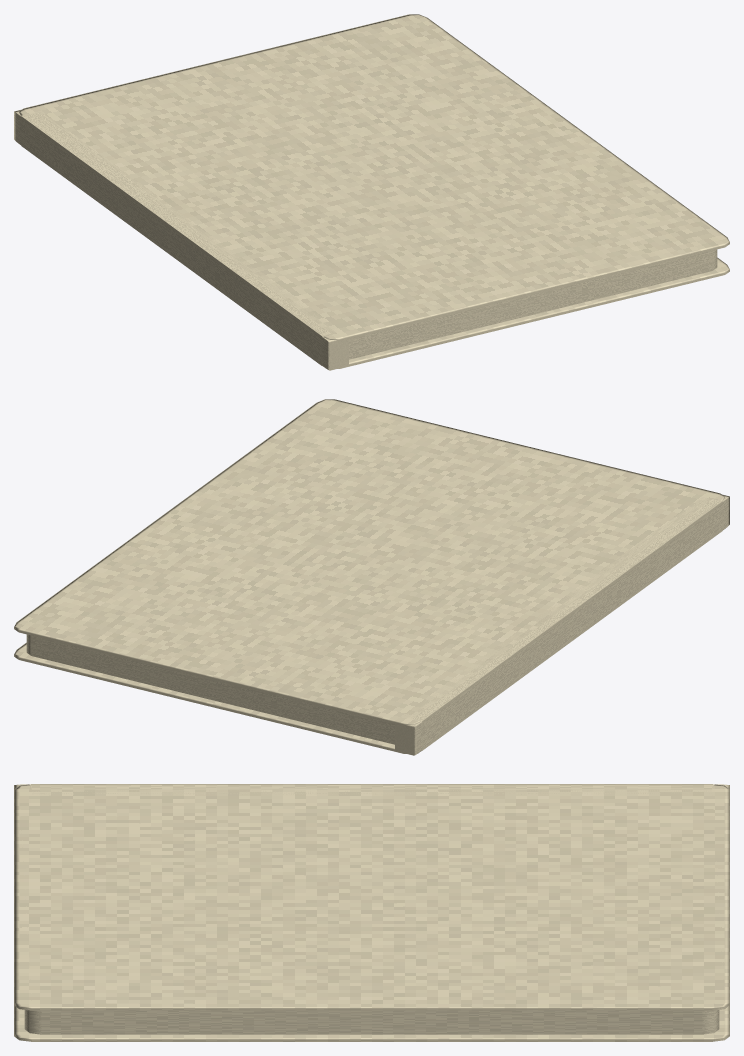
File: duty-log.glb
3 renders of one model, top to bottom at view 1: azimuth 30°, elevation 25°; view 2: azimuth 150°, elevation 25°; view 3: azimuth 270°, elevation 25°, orthographic. The views are drawn at different scales.
Visible parts, largest first — view 1: cover (×2), spine, pages; view 2: cover (×2), spine, pages; view 3: cover (×2), pages, spine.
Part boxes in pixels (box(x1,y1,x2,y2)): cover (×2): box(19, 14, 729, 368); spine: box(14, 109, 348, 370); pages: box(349, 249, 717, 359); cover (×2): box(14, 399, 724, 753); spine: box(395, 494, 729, 755); pages: box(26, 634, 394, 744); cover (×2): box(14, 784, 729, 1041); pages: box(24, 1010, 719, 1034); spine: box(14, 784, 729, 794).
Bounding box in the file's own units: 0.23 × 0.016 × 0.31.
Materials: 1 (1 with a texture image).
